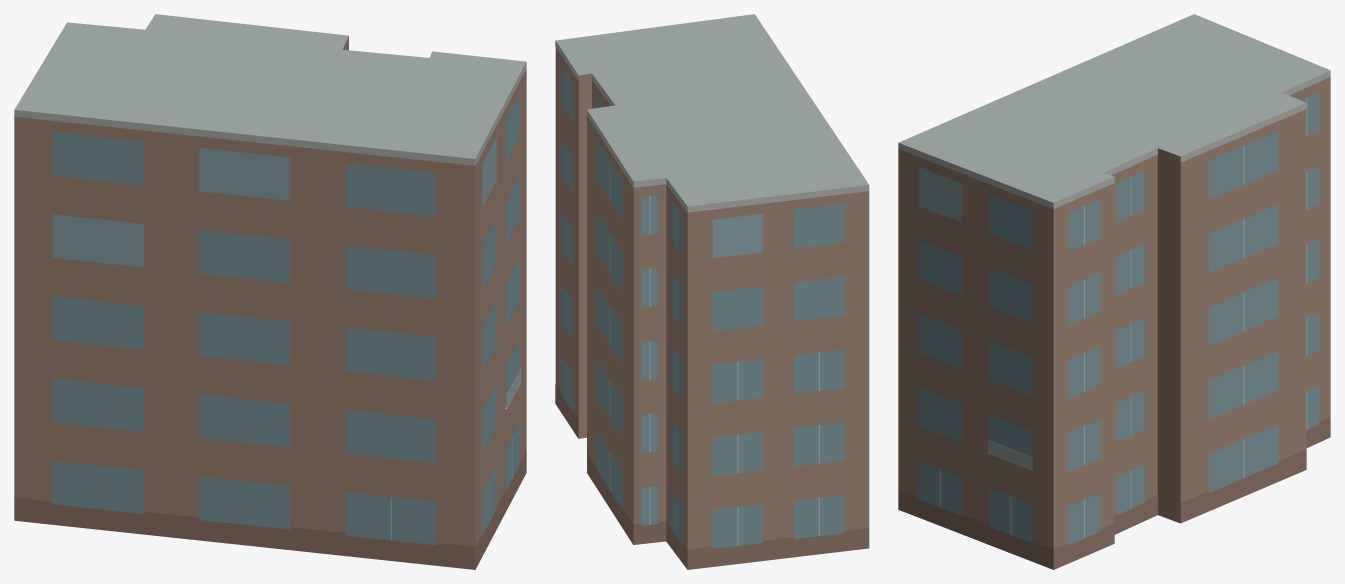
Rendered from survey-upis-33043049.glb.
3 views of the same model, side by side, from view 1: azimuth 30°, elevation 25°; view 2: azimuth 150°, elevation 25°; view 3: azimuth 270°, elevation 25° (orthographic). The views are drawn at different scales.
Parts seen in each view (by area): view 1: survey-upis-33043049.tmp; view 2: survey-upis-33043049.tmp; view 3: survey-upis-33043049.tmp.
Part boxes in pixels (box(x1,y1,x2,y2)): survey-upis-33043049.tmp: box(14, 14, 526, 569); survey-upis-33043049.tmp: box(555, 14, 869, 569); survey-upis-33043049.tmp: box(898, 14, 1330, 569).
Bounding box in the file's own units: 15.91 × 14.4 × 15.39.
